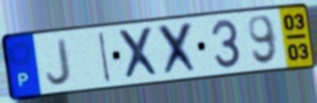3: (209, 16, 242, 71)
9: (247, 14, 280, 66)
I: (97, 30, 113, 85)
J: (45, 36, 73, 87)
X: (115, 25, 163, 82), (156, 20, 201, 79)
